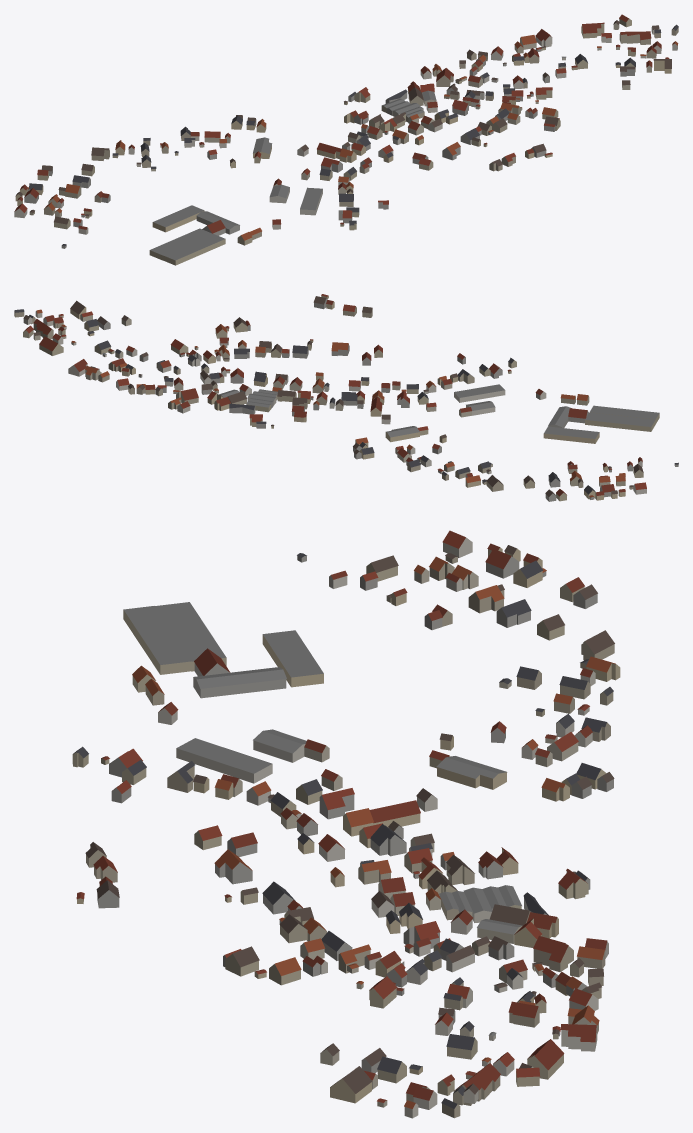
3 views of the same model, one above another, from view 1: azimuth 30°, elevation 25°; view 2: azimuth 150°, elevation 25°; view 3: azimuth 270°, elevation 25° (orthographic). The views are drawn at different scales.
Visible parts, largest first — view 1: buildings; view 2: buildings; view 3: buildings.
Boxes of the visible parts, left/top/right/bottom form: buildings: left=14, top=14, right=678, bottom=265; buildings: left=14, top=294, right=678, bottom=501; buildings: left=72, top=530, right=620, bottom=1118.
Size of the model in its own units: 809 by 42.88 by 304.
